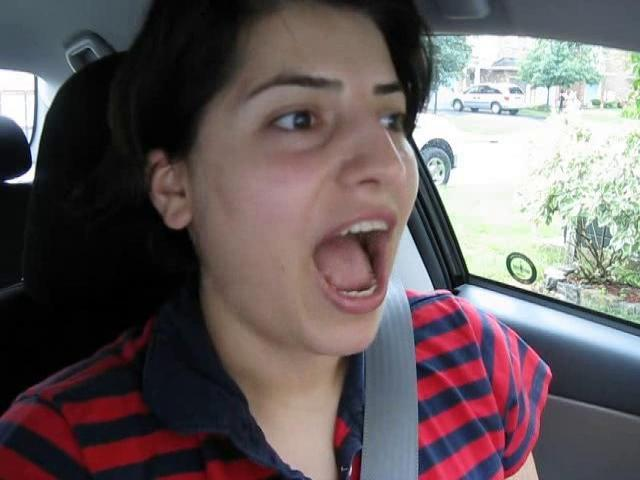eye_open: (257, 97, 333, 144), (374, 104, 410, 138)
face: (216, 52, 420, 368)
mouth_open: (302, 203, 401, 316)
